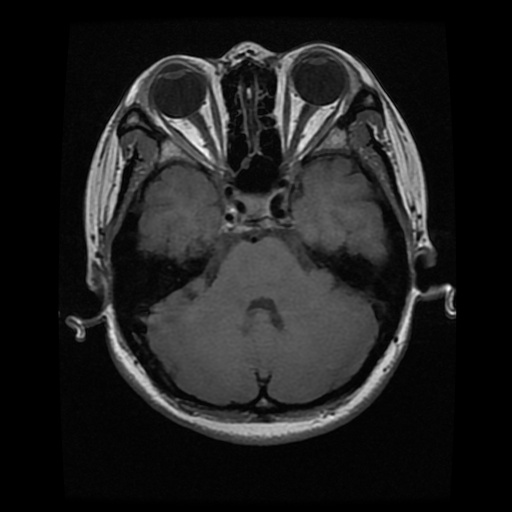pituitary: (244, 197, 268, 219)
